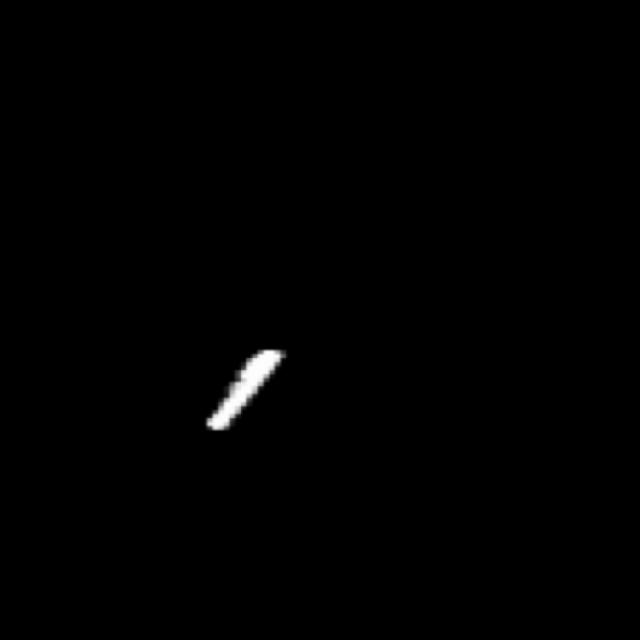one -1-: (190, 334, 308, 443)
